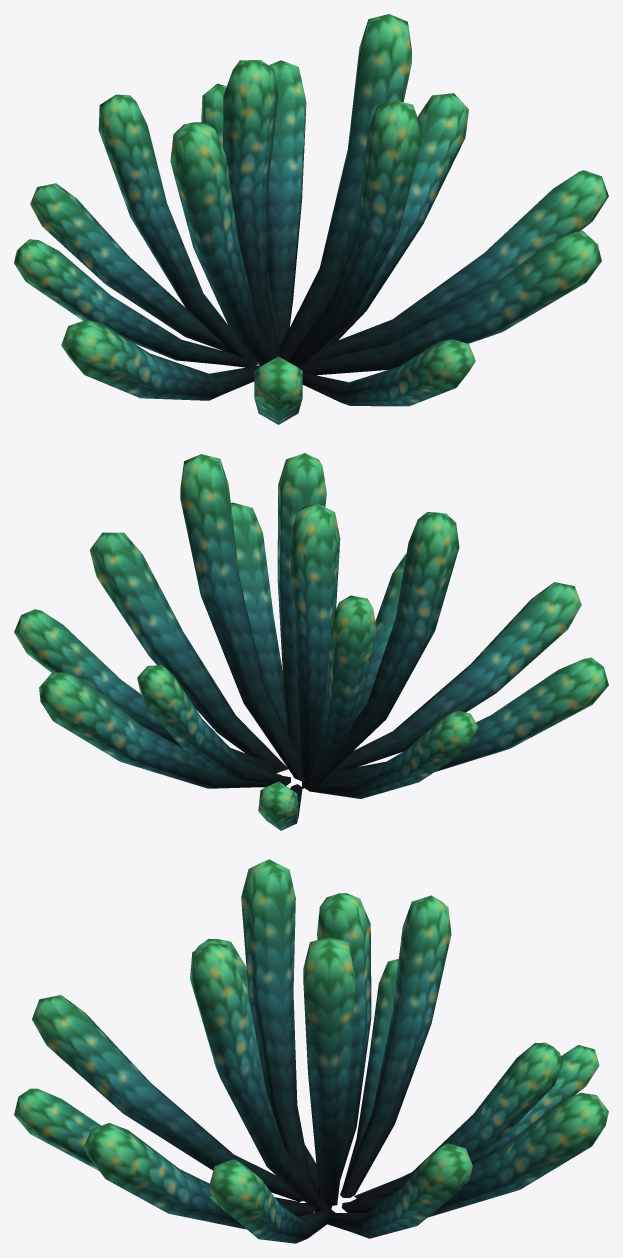
The model's file is Coral_08b.FBX.
3 views of the same model, one above another, from view 1: azimuth 30°, elevation 25°; view 2: azimuth 150°, elevation 25°; view 3: azimuth 270°, elevation 25° (orthographic). The views are drawn at different scales.
Parts seen in each view (by area): view 1: Coral_08b; view 2: Coral_08b; view 3: Coral_08b.
Part boxes in pixels (box(x1,y1,x2,y2)): Coral_08b: box(14, 14, 608, 424); Coral_08b: box(14, 453, 608, 830); Coral_08b: box(14, 859, 608, 1243).
Bounding box in the file's own units: 48.65 × 28.83 × 46.67.
